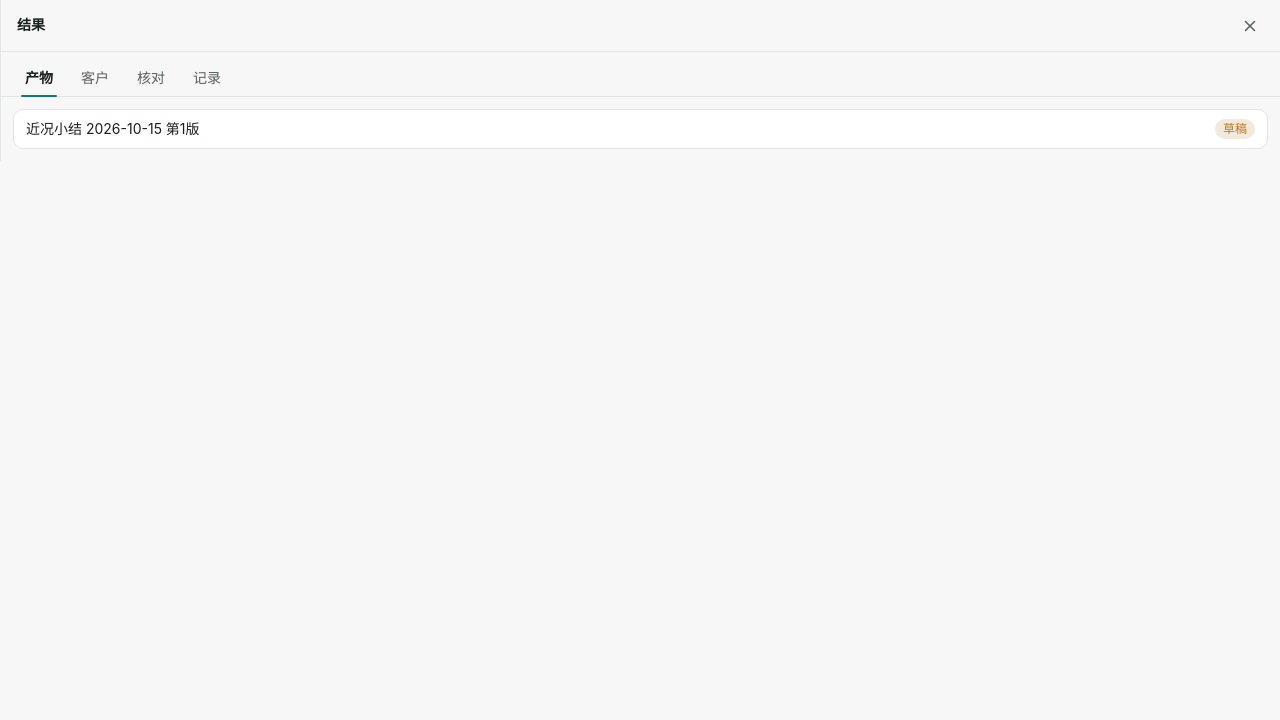
Test: review bar on a draft › shows every reason of a 409 rejection and marks the critical value
Click the button "近况小结 2026-10-15 第1版 草稿". click: (113, 128)
box: left=13, top=109, right=1268, bottom=149
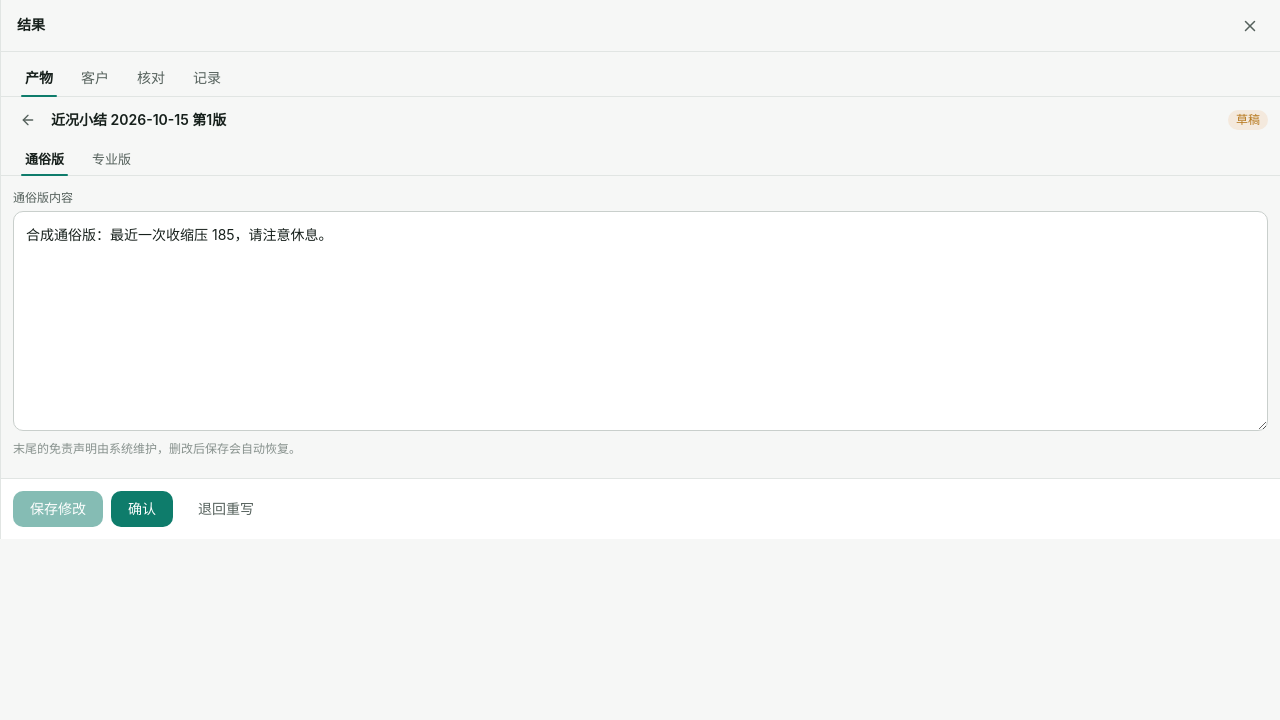
Expected: the heading "近况小结 2026-10-15 第1版" is shown, left=51, top=111, right=226, bottom=128
Click the button "确认". click: (142, 509)
box: left=111, top=491, right=173, bottom=527
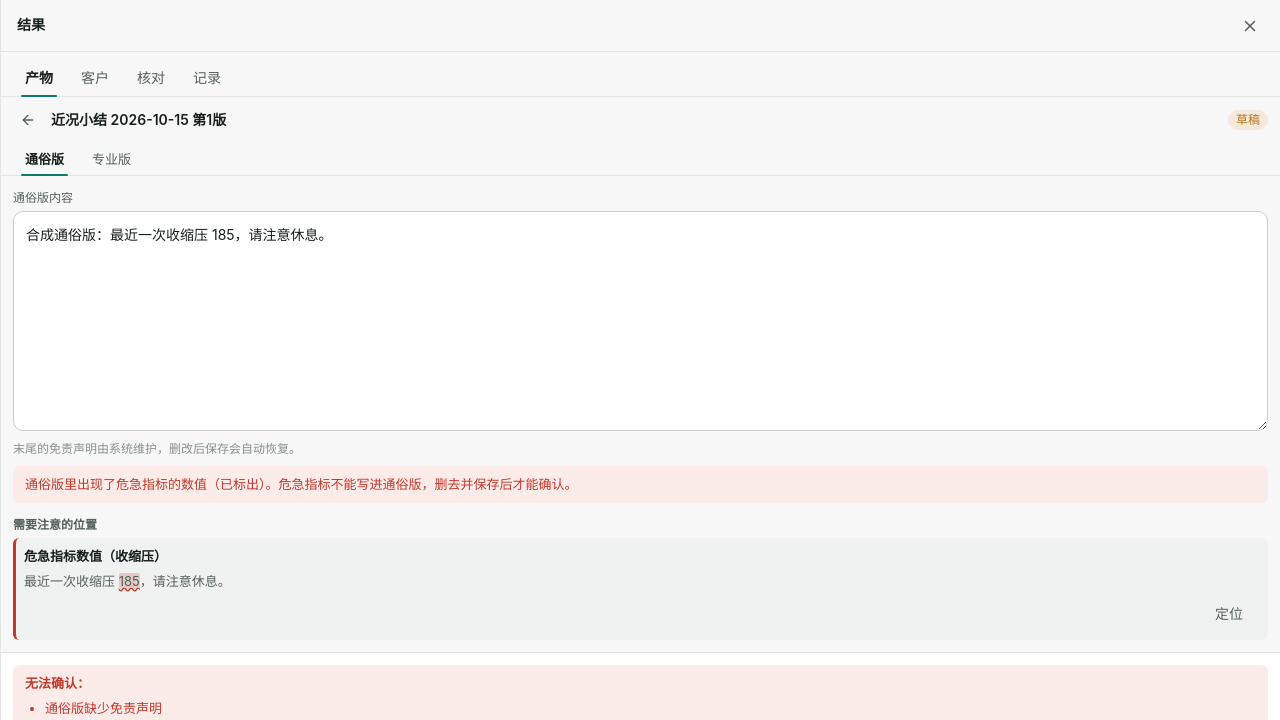
Expected: the list named "需要注意的位置" shows "危急指标数值（收缩压）", left=24, top=548, right=167, bottom=564
